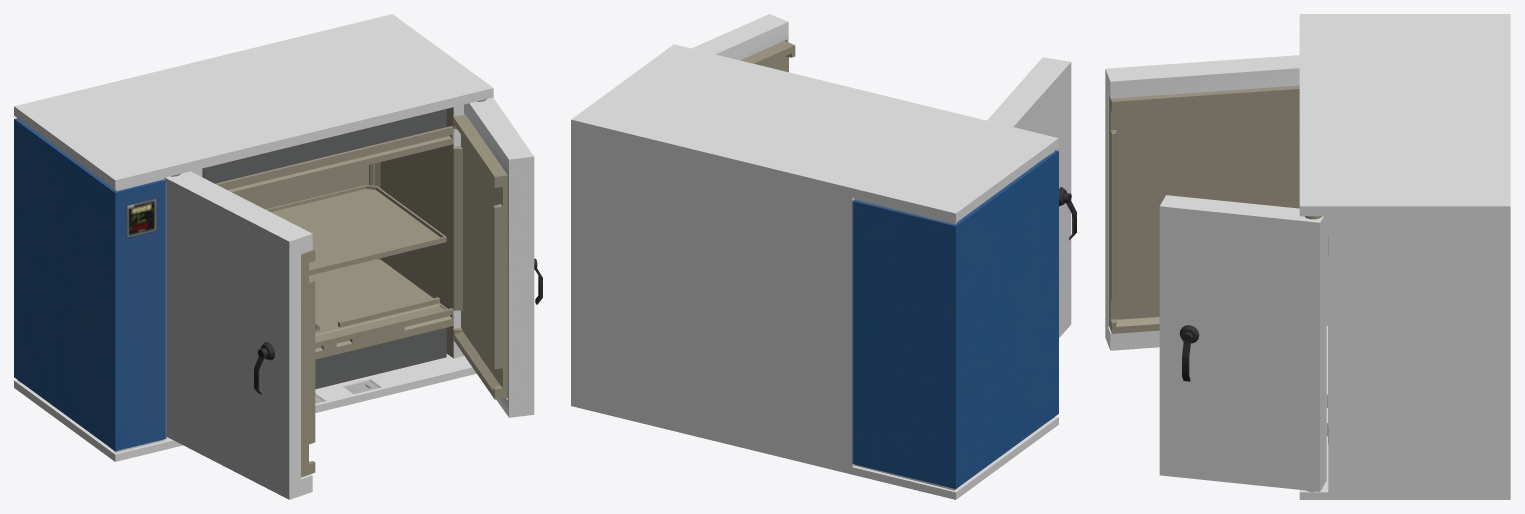
The model's file is drying_oven.glb.
3 renders of one model, left to right at view 1: azimuth 30°, elevation 25°; view 2: azimuth 150°, elevation 25°; view 3: azimuth 270°, elevation 25°, orthographic. The views are drawn at different scales.
Parts seen in each view (by area): view 1: body_low, door1_low, door2_low; view 2: body_low, door1_low, door2_low; view 3: body_low, door2_low, door1_low.
Boxes of the visible parts, x1,y1,x2,y2 form: body_low: [14, 14, 493, 461]; door1_low: [164, 171, 315, 499]; door2_low: [453, 97, 542, 417]; body_low: [571, 44, 1058, 499]; door1_low: [987, 57, 1076, 337]; door2_low: [691, 14, 795, 72]; body_low: [1299, 14, 1510, 499]; door2_low: [1159, 195, 1326, 491]; door1_low: [1105, 55, 1299, 350].
Size of the model in its own units: 1.53 by 1.07 by 1.34.
1 material, 1 textured.
